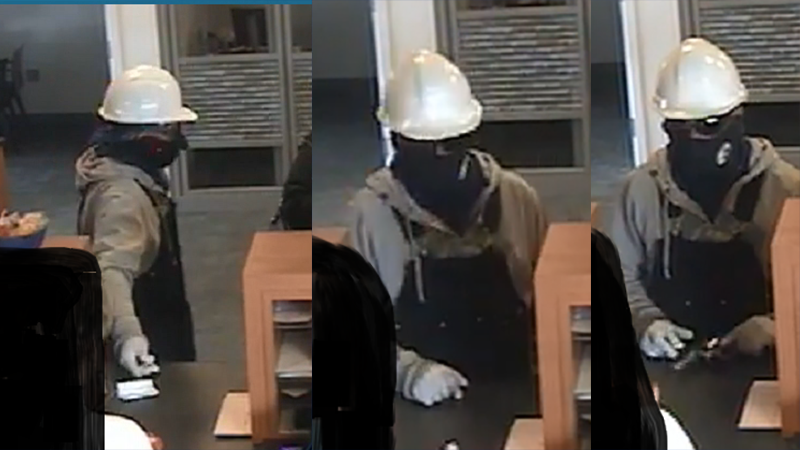helmet: (360, 39, 493, 125), (638, 22, 756, 108), (88, 43, 202, 122)
